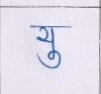u_matra: (37, 51, 65, 69)
